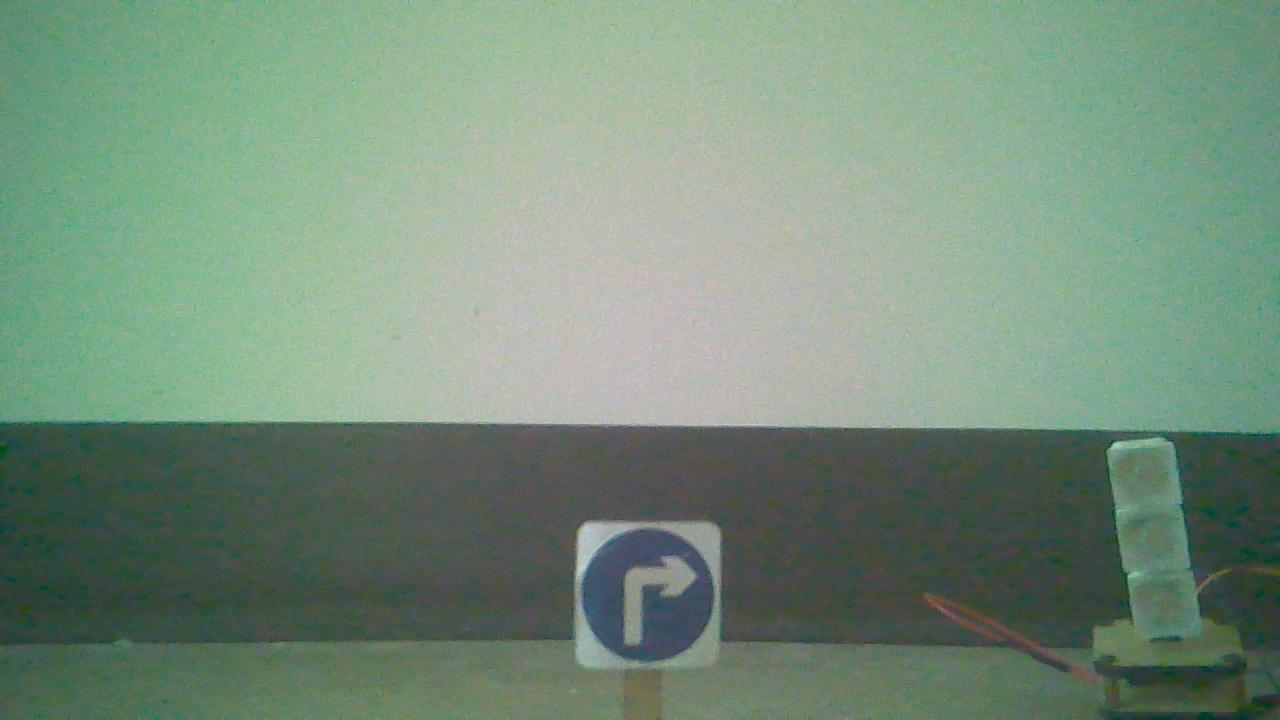turn: (578, 524, 720, 665)
